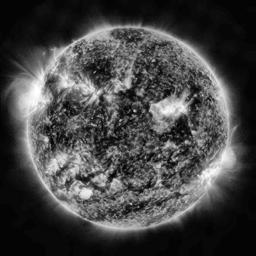solar flares: (151, 99, 189, 123), (47, 151, 70, 173), (59, 77, 85, 93)
sunspots: (46, 122, 70, 143), (87, 64, 111, 84), (168, 117, 190, 137), (116, 29, 144, 44), (103, 133, 120, 149), (122, 88, 139, 103), (190, 85, 200, 109)
